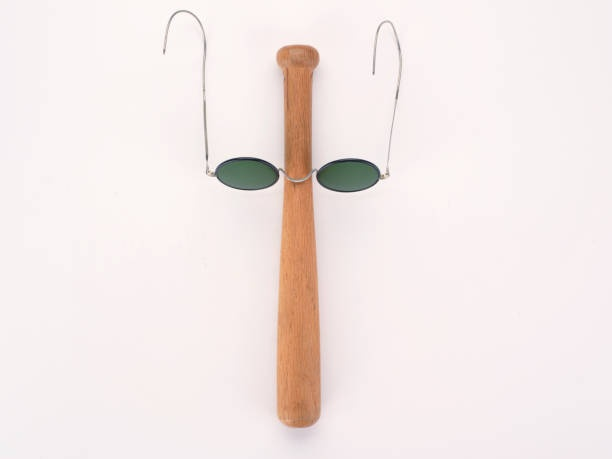bita: (282, 35, 314, 422)
